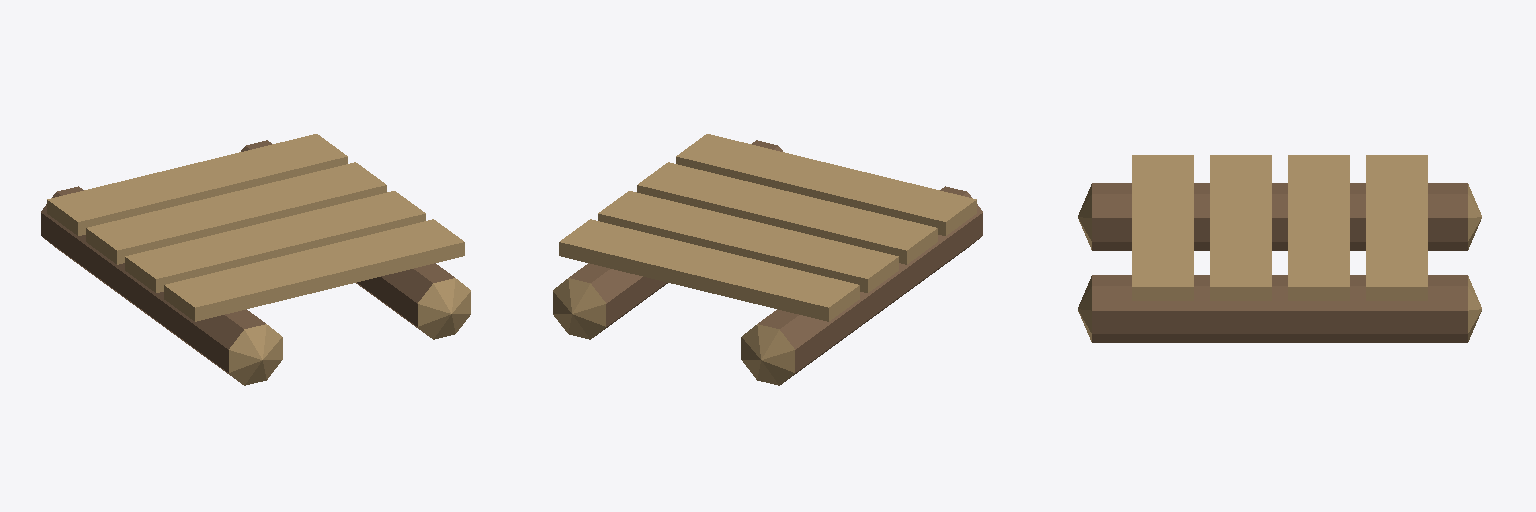
File: Beach_Prop_Docks_Straight.obj
3 renders of one model, left to right at view 1: azimuth 30°, elevation 25°; view 2: azimuth 150°, elevation 25°; view 3: azimuth 270°, elevation 25°, orthographic.
Visible parts, largest first — view 1: object2, object1, object3, object6, object5, object4; view 2: object3, object1, object2, object6, object5, object4; view 3: object4, object5, object1, object2, object3, object6.
Boxes of the visible parts, box(x1,y1,x2,y2) form: object2: box(164, 219, 464, 321); object1: box(86, 162, 386, 264); object3: box(47, 134, 347, 235); object6: box(125, 191, 425, 292); object5: box(41, 186, 282, 385); object4: box(241, 140, 470, 339); object3: box(559, 219, 859, 321); object1: box(598, 191, 898, 292); object2: box(676, 134, 976, 235); object6: box(637, 162, 937, 264); object5: box(741, 186, 982, 385); object4: box(553, 140, 782, 339); object4: box(1078, 275, 1481, 342); object5: box(1078, 183, 1481, 250); object1: box(1288, 155, 1349, 300); object2: box(1132, 155, 1193, 300); object3: box(1366, 155, 1427, 300); object6: box(1210, 155, 1271, 300).
Size of the model in its own units: 1 by 0.25 by 1.3.